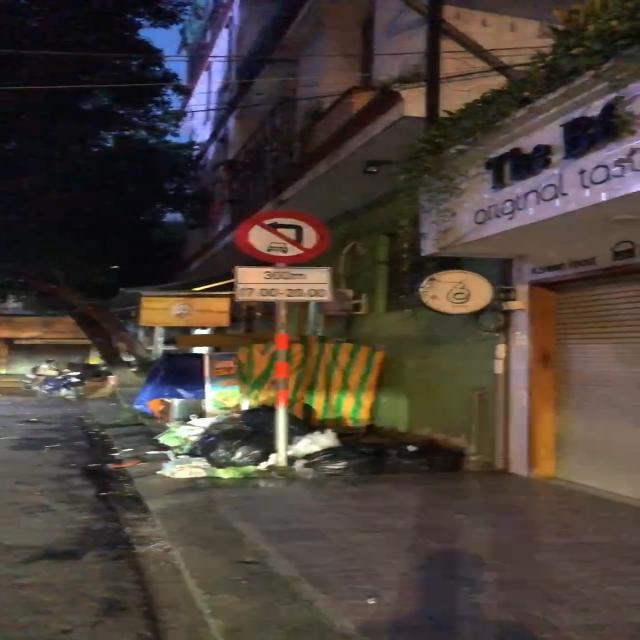Bien bao cam xe o to re trai: (230, 206, 332, 264)
